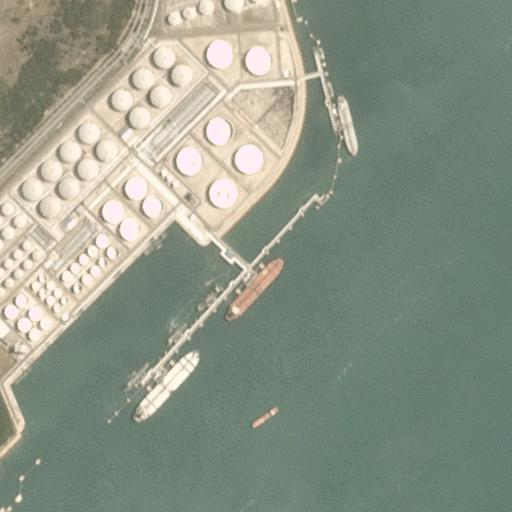ship: (130, 351, 200, 423), (223, 258, 285, 320), (336, 97, 358, 155), (123, 361, 150, 391), (197, 282, 224, 312), (252, 405, 281, 429), (169, 322, 187, 345)
